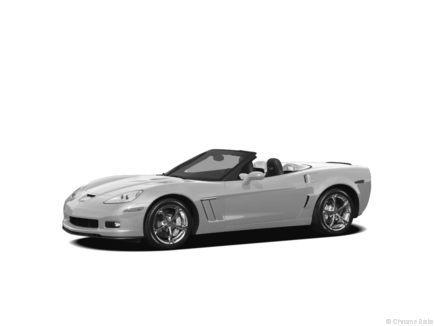car: (64, 151, 373, 253)
